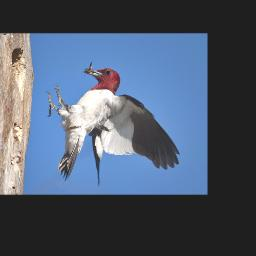Woodpecker: (47, 64, 180, 186)
